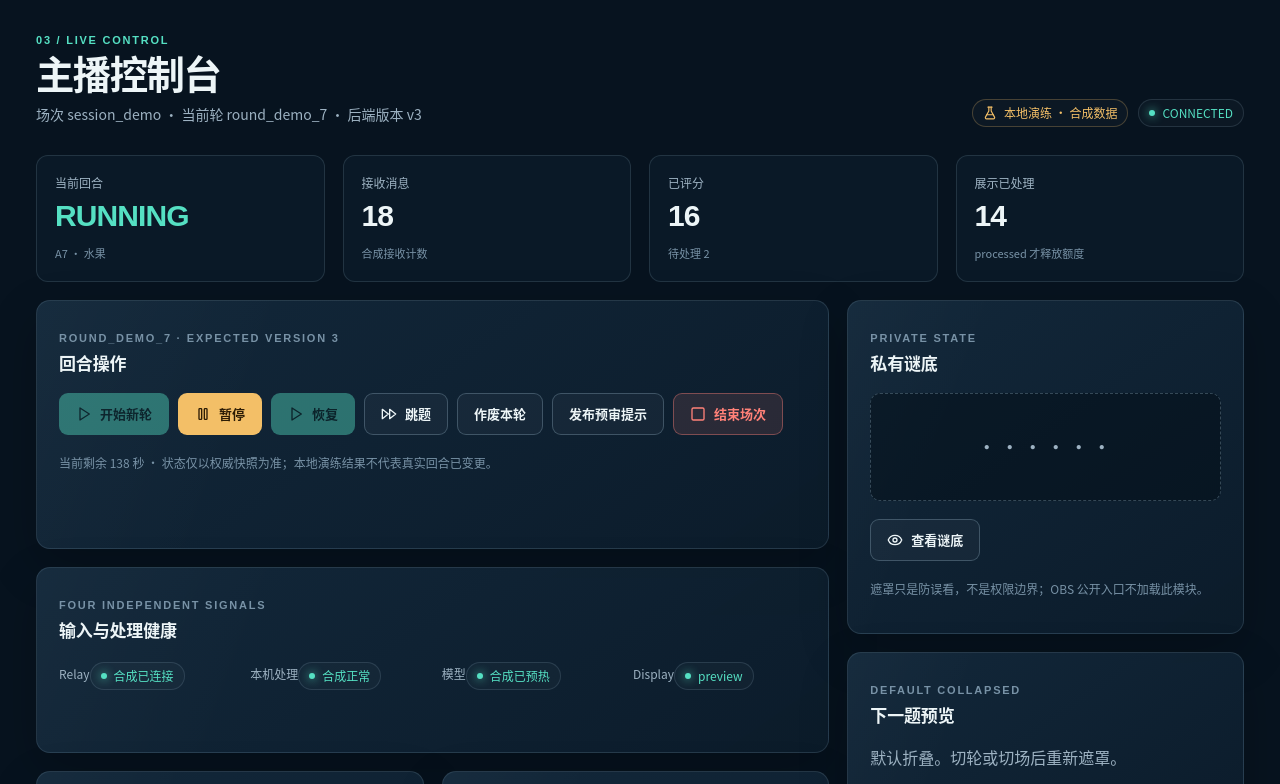
Test: 主播控制台 › 谜底默认遮罩，明确私有后才显示
Expected: the text "柠檬" is not shown
Click the button "查看谜底" at (925, 540), box [870,519,980,561]
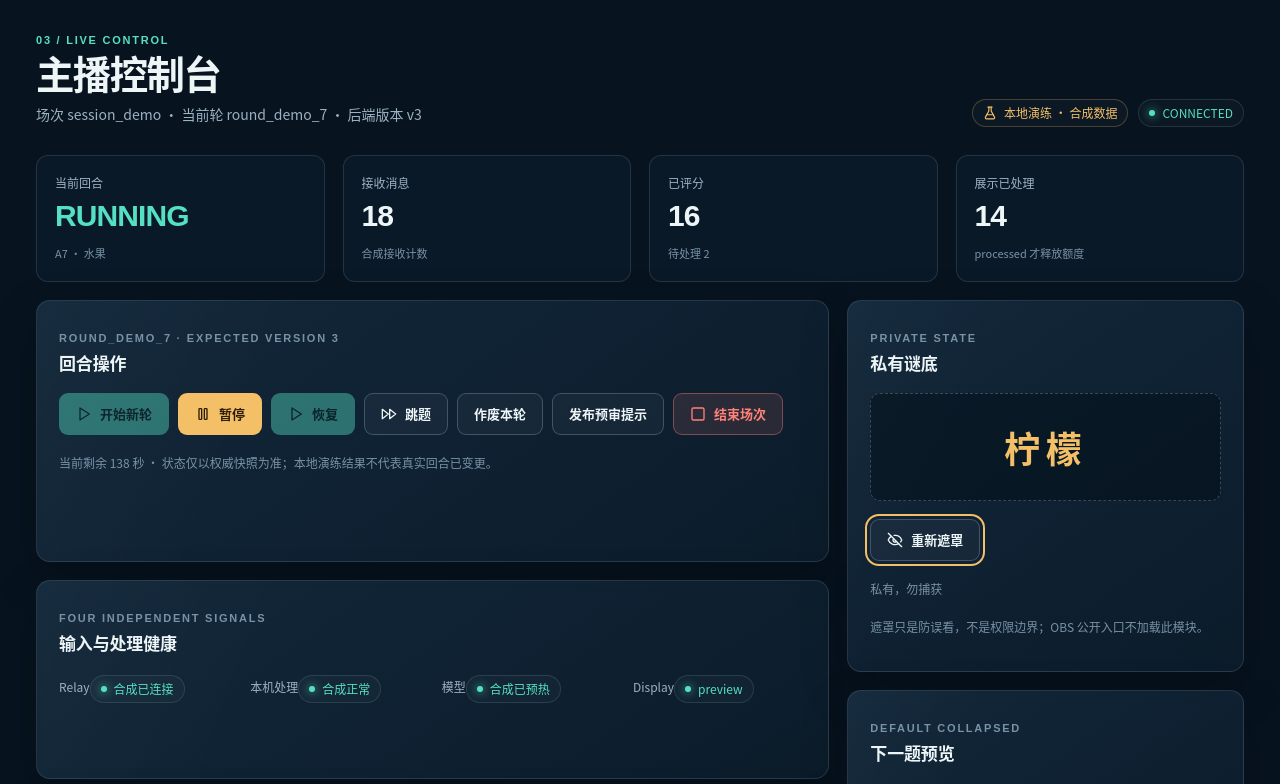
Expected: the text "柠檬" is shown, [870,393,1221,501]
Expected: the text "私有，勿捕获" is shown, [870,580,942,597]
